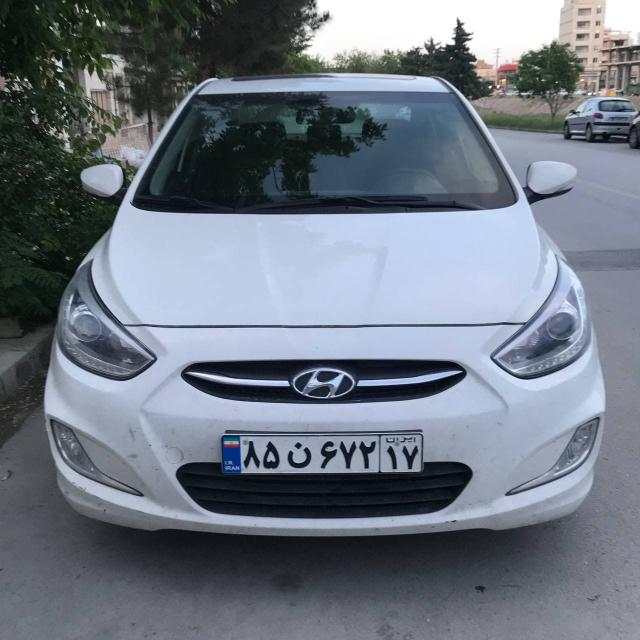Plates: (222, 433, 423, 474)
